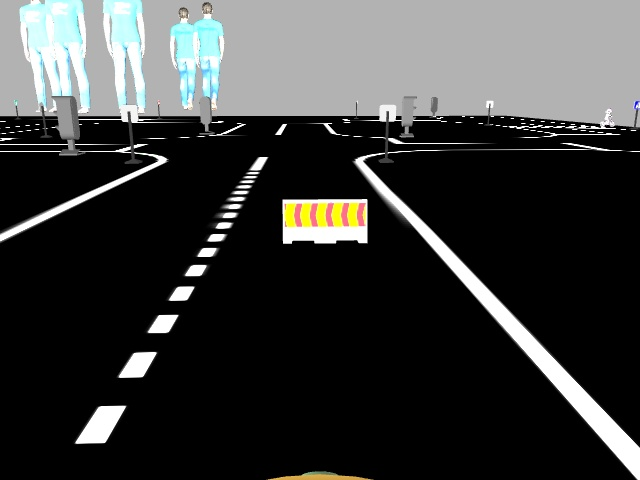ClosedRoadStand: (283, 198, 367, 241)
